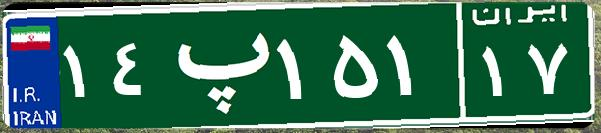1: (385, 28, 445, 110), (273, 28, 330, 110), (57, 26, 110, 107), (475, 38, 525, 113)
4: (110, 28, 158, 105)
5: (330, 28, 385, 110)
7: (525, 38, 570, 115)
پ: (158, 15, 273, 115)
